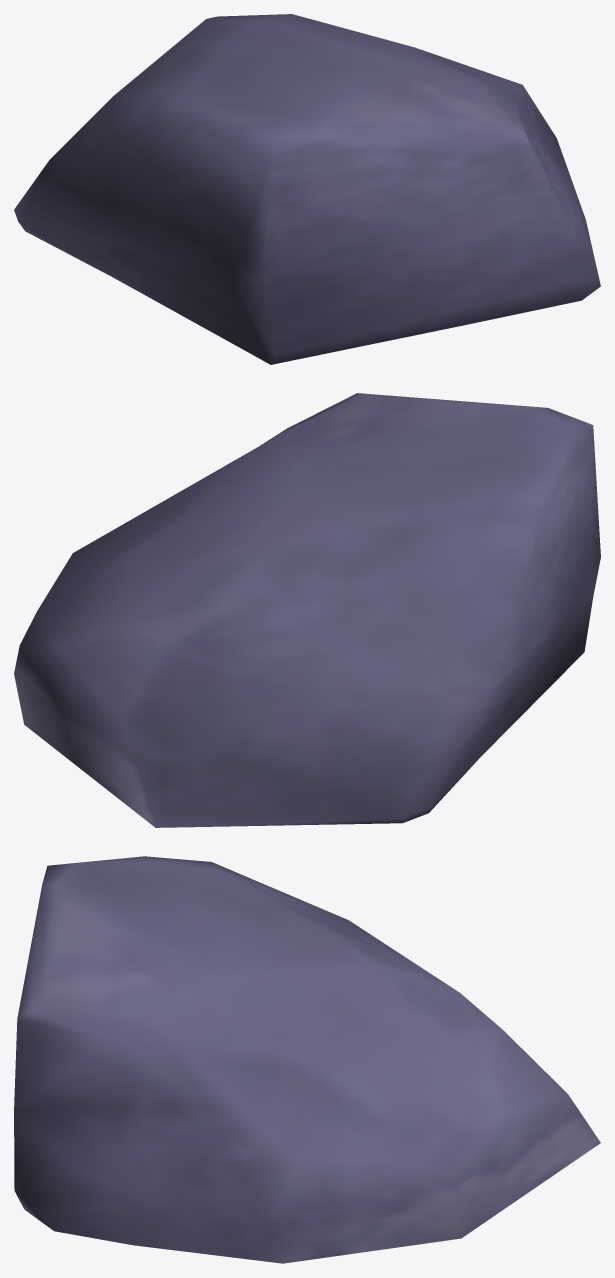
File: Battle_haijie_suishi02e_fbx.fbx
3 views of the same model, one above another, from view 1: azimuth 30°, elevation 25°; view 2: azimuth 150°, elevation 25°; view 3: azimuth 270°, elevation 25° (orthographic). The views are drawn at different scales.
Visible parts, largest first — view 1: Battle_haijie_suishi02e_fbx; view 2: Battle_haijie_suishi02e_fbx; view 3: Battle_haijie_suishi02e_fbx.
Boxes of the visible parts, x1,y1,x2,y2 form: Battle_haijie_suishi02e_fbx: [14, 14, 600, 364]; Battle_haijie_suishi02e_fbx: [14, 393, 600, 827]; Battle_haijie_suishi02e_fbx: [14, 856, 600, 1263].
Size of the model in its own units: 175 by 82.13 by 199.
